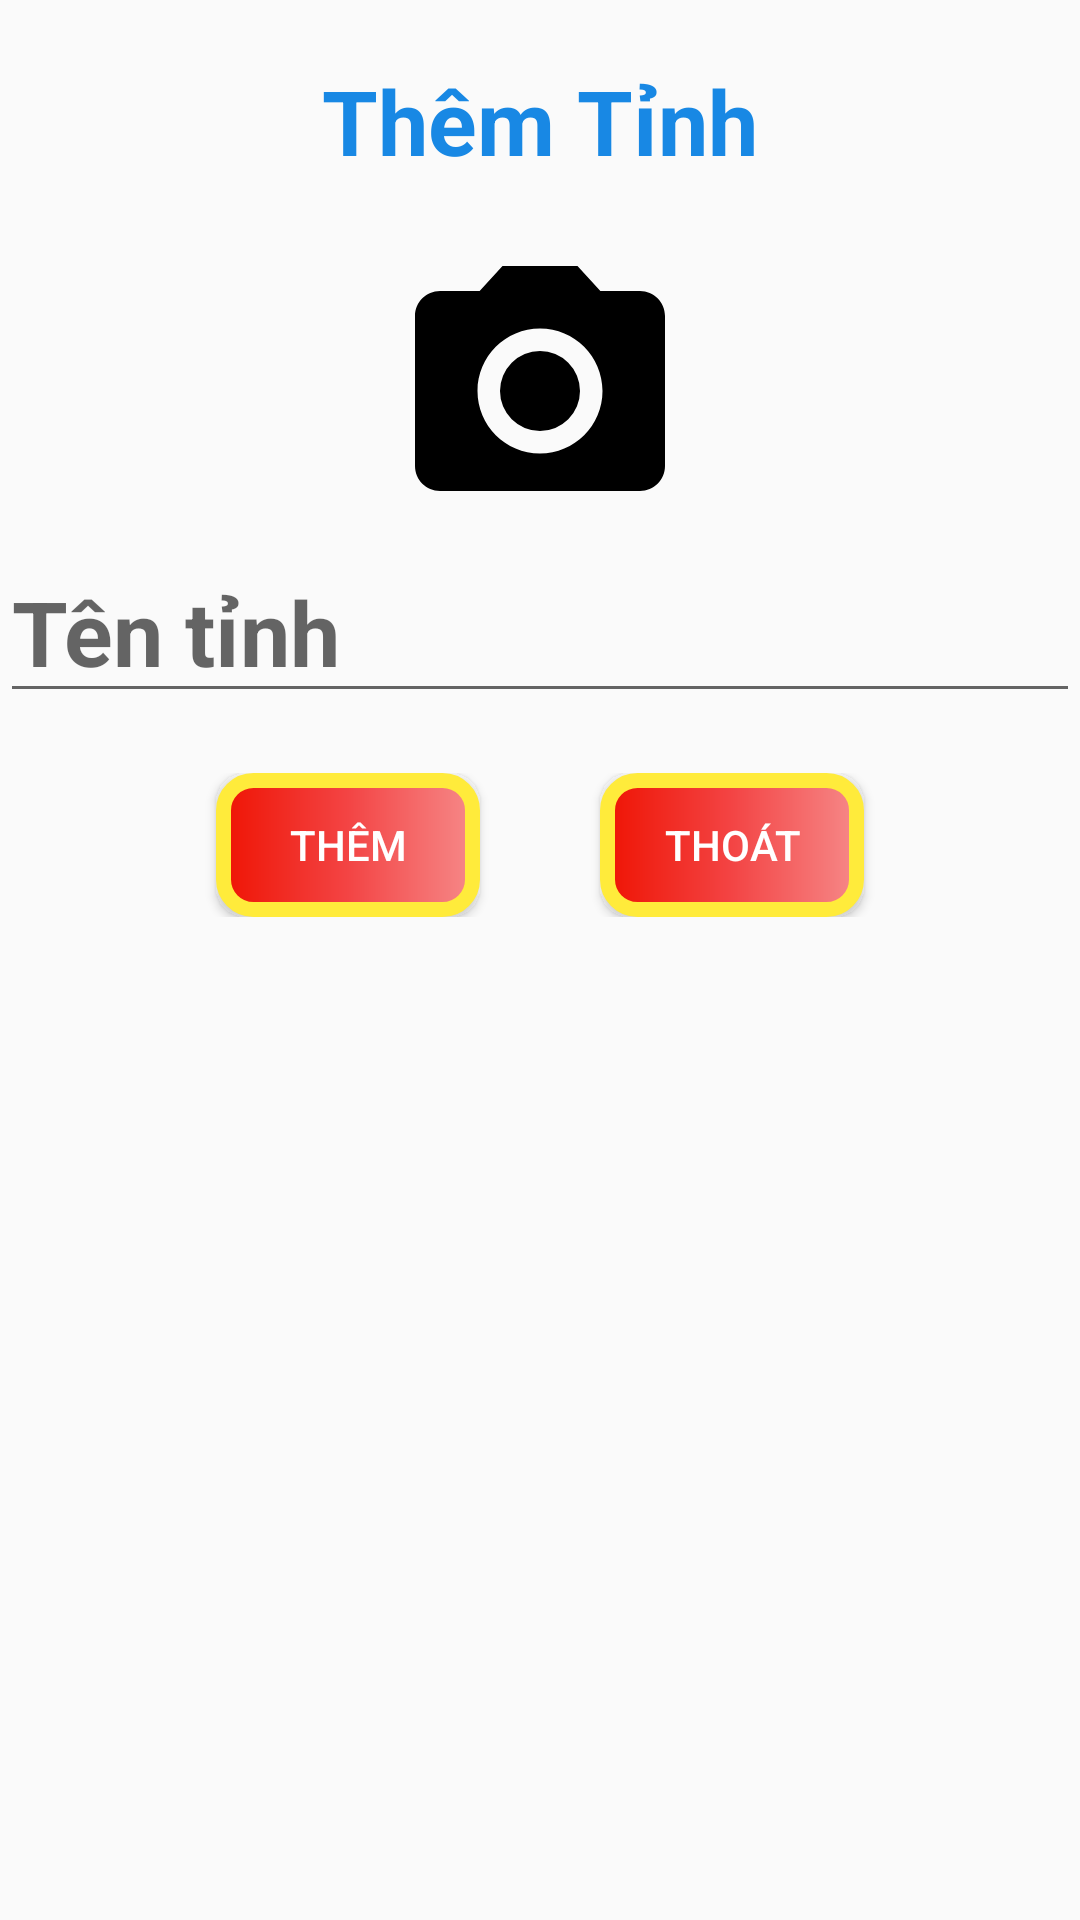

Locate icon controls on the screen. Image size 1080*1920, boxes as bbox=(x1, y1, x2, y2).
camera: bbox=(415, 266, 665, 491)
